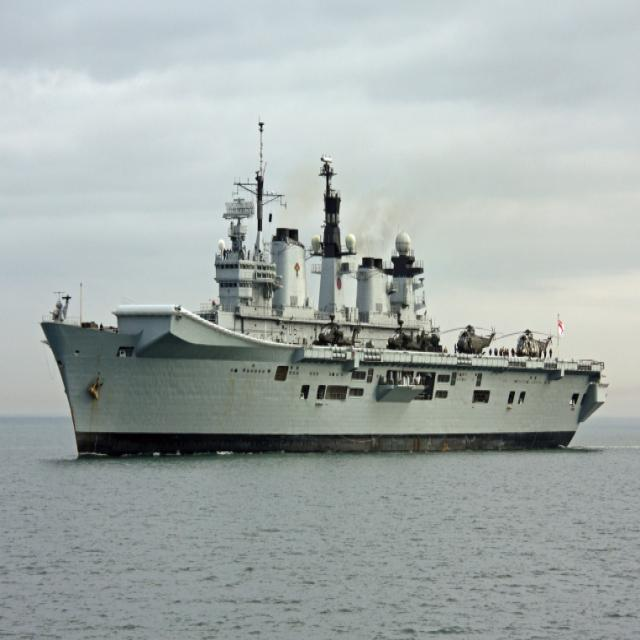Portanaves: (37, 114, 616, 467)
